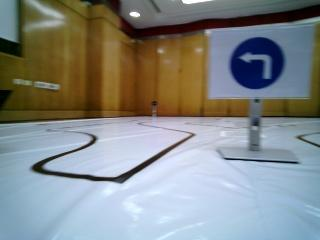left: (209, 25, 309, 98)
